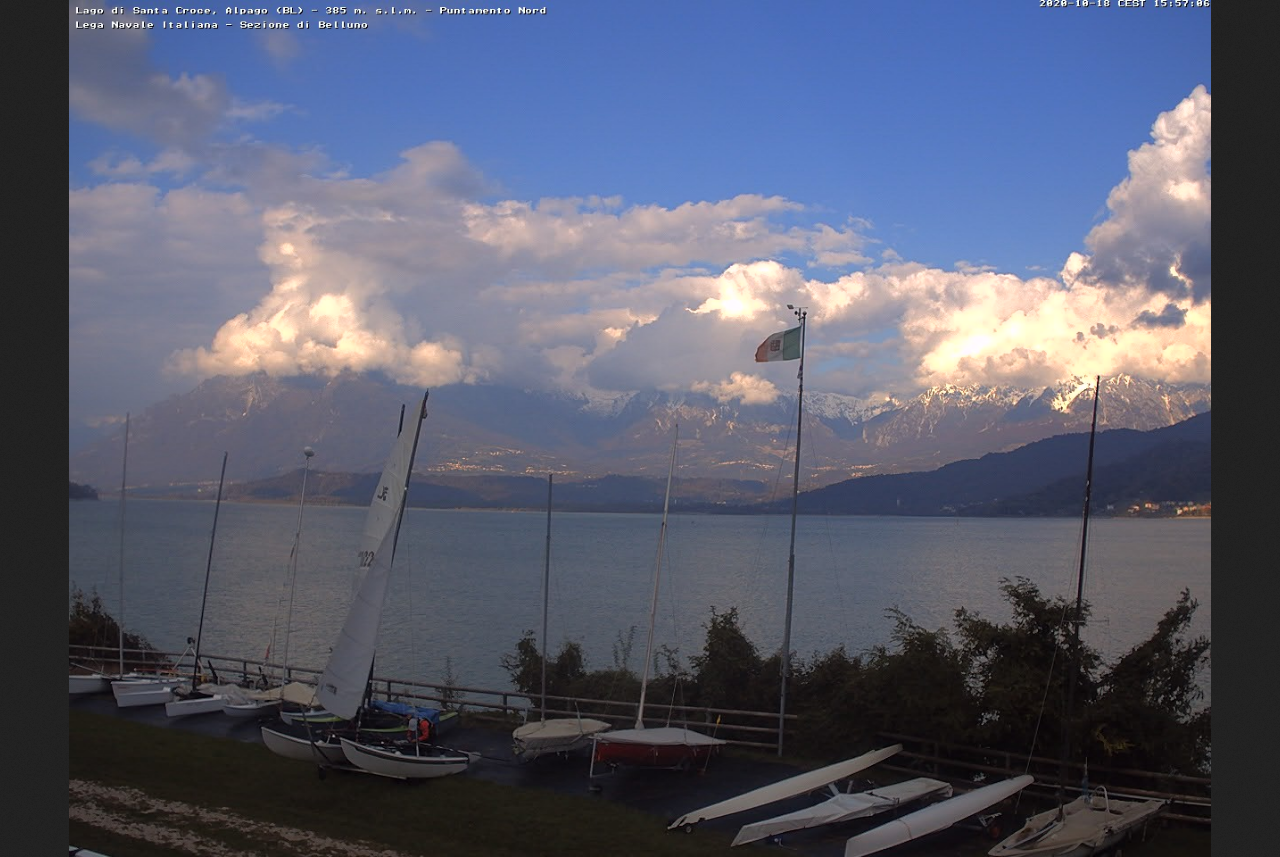yes: (750, 318, 808, 366)
